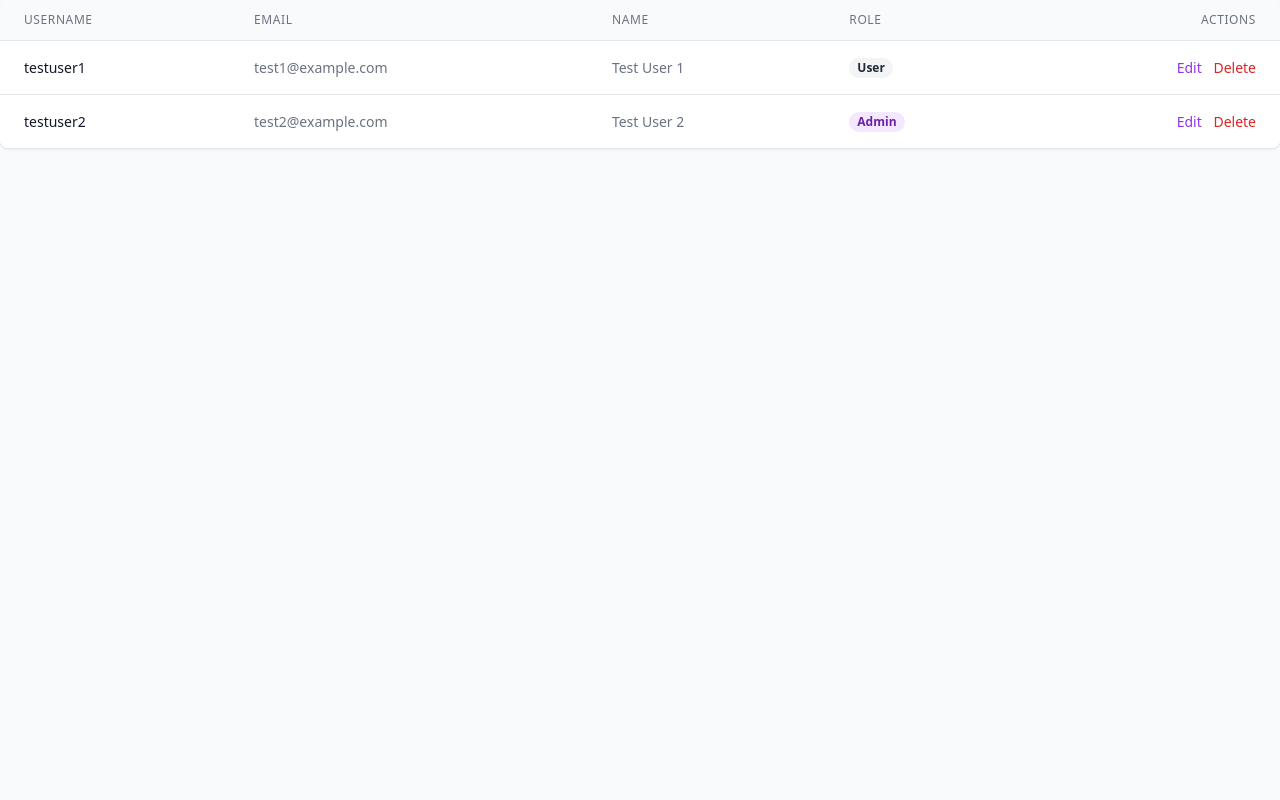
Test case: UserList Component › User Actions › should open delete modal when delete button is clicked
Find and click delete button for first user
What coordinates should you click on to do the following:
click the button "Delete" in the row of "testuser1"
I would click on:
 (1235, 68)
Its box is [1213,58,1256,78].
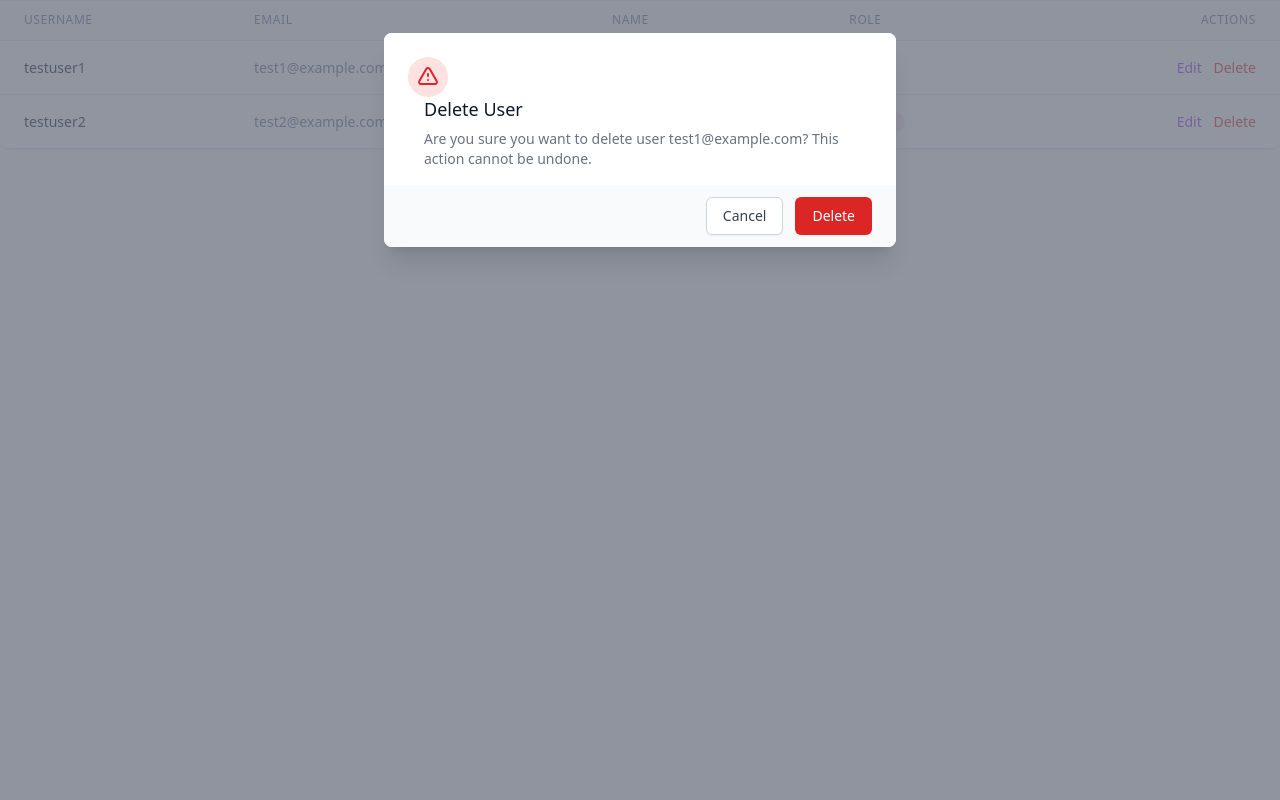
Expected: the heading "Delete User" is shown, [424,97,523,121]
